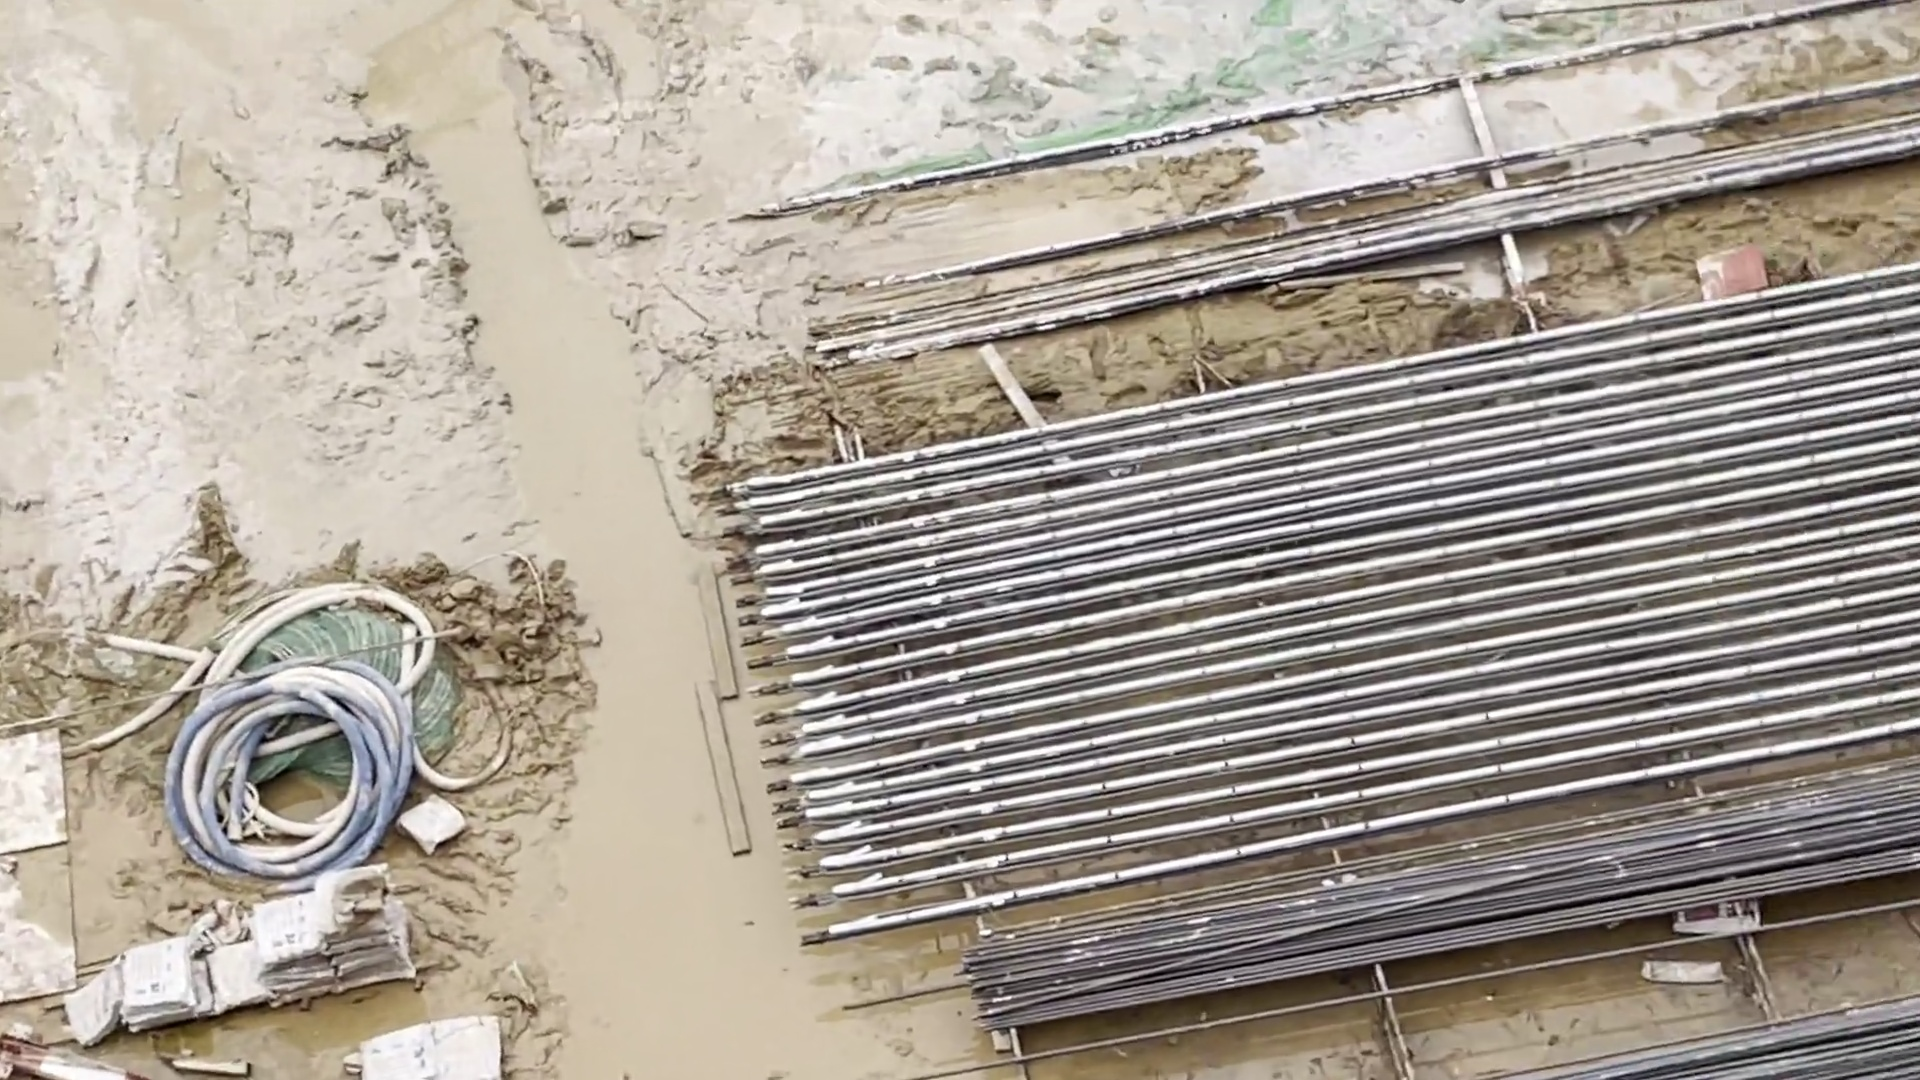rebar: (985, 811, 1920, 1073)
